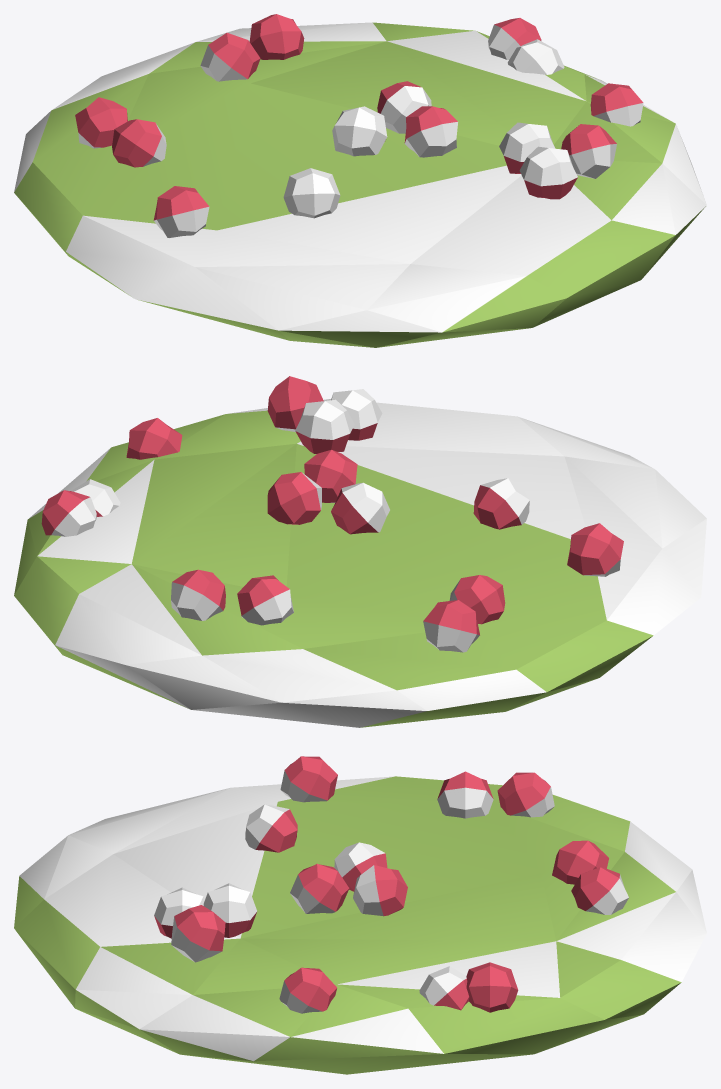
The model's file is lingonberry_2.fbx.
The picture shows the model from 3 angles, top to bottom: view 1: azimuth 30°, elevation 25°; view 2: azimuth 150°, elevation 25°; view 3: azimuth 270°, elevation 25°; orthographic projection. The views are drawn at different scales.
Visible parts, largest first — view 1: Apple_Snow_01.002; view 2: Apple_Snow_01.002; view 3: Apple_Snow_01.002.
Part boxes in pixels (x1,y1,x2,y2): Apple_Snow_01.002: [14, 14, 706, 347]; Apple_Snow_01.002: [14, 376, 706, 727]; Apple_Snow_01.002: [14, 756, 706, 1074].
Size of the model in its own units: 1.74 by 0.429 by 1.84.
1 material, 1 textured.
